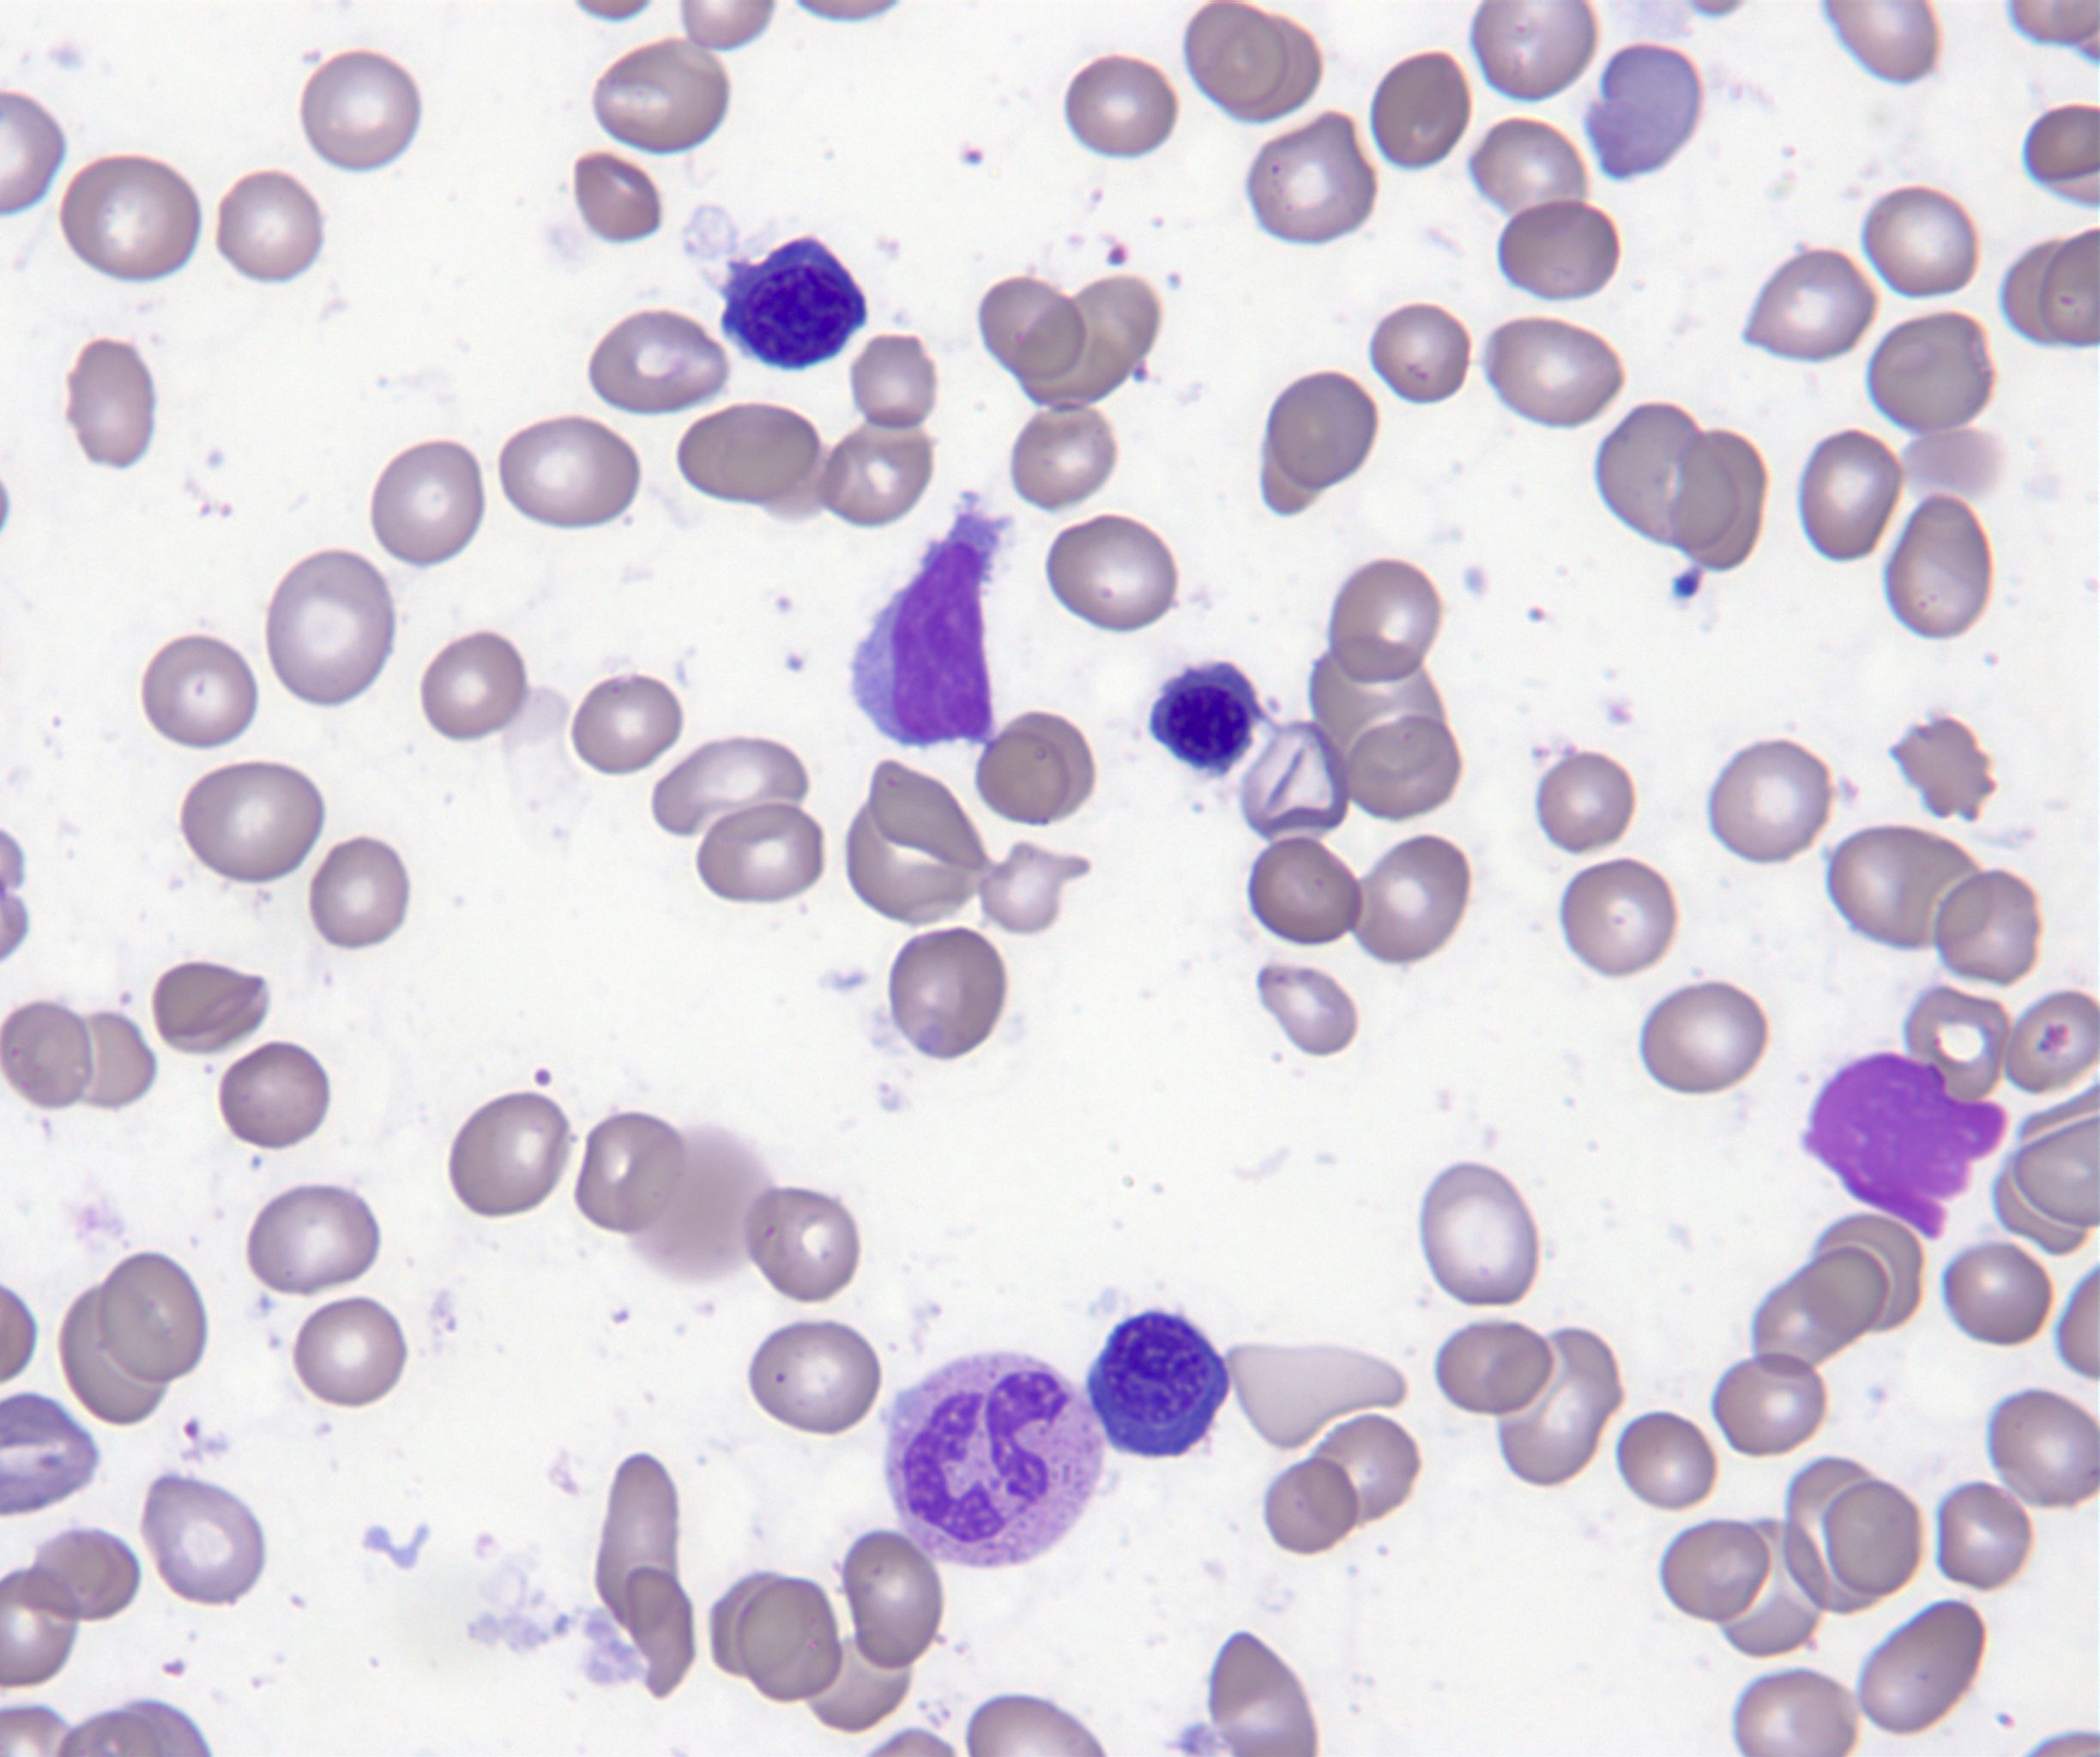23: (1087, 1312, 1228, 1457), (722, 236, 867, 372), (1149, 660, 1270, 771)
32: (853, 492, 1013, 752)
6: (884, 1352, 1106, 1569)
x: (1798, 1049, 2008, 1246)
